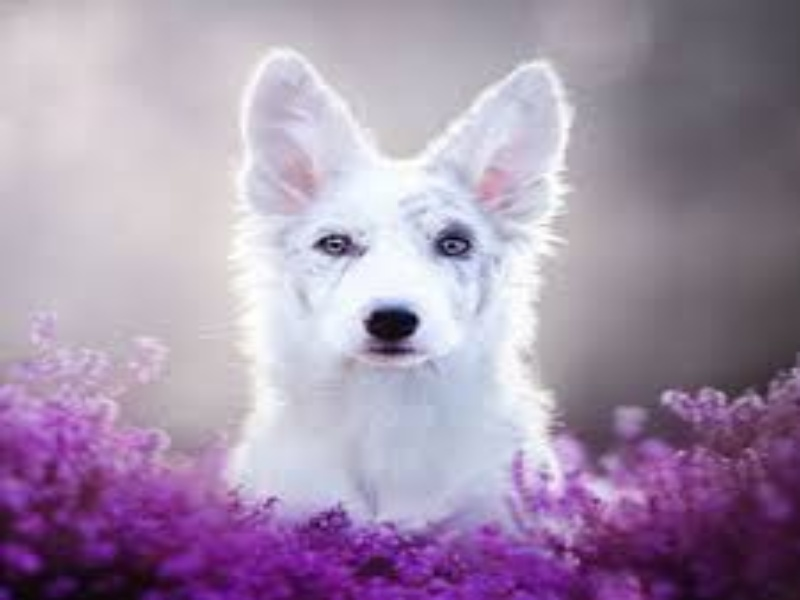dog: (217, 35, 557, 486)
